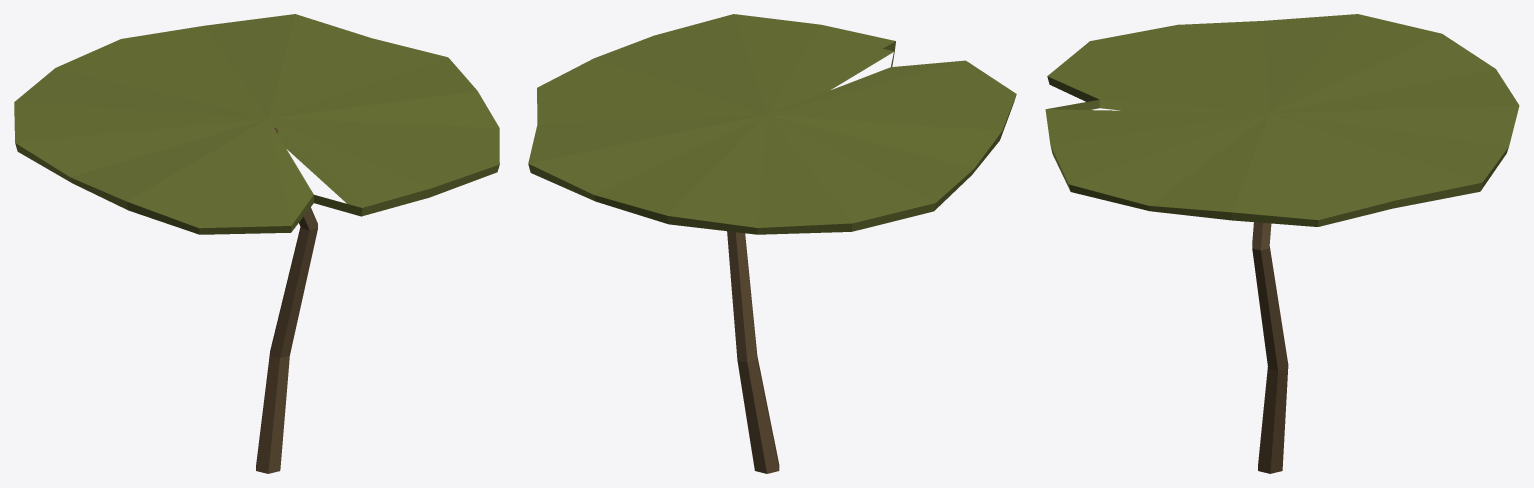
File: plant_004a_lily_pad.glb
3 renders of one model, left to right at view 1: azimuth 30°, elevation 25°; view 2: azimuth 150°, elevation 25°; view 3: azimuth 270°, elevation 25°, orthographic.
Parts seen in each view (by area): view 1: plant_004a_lily_pad__pad, plant_004a_lily_pad__stem; view 2: plant_004a_lily_pad__pad, plant_004a_lily_pad__stem; view 3: plant_004a_lily_pad__pad, plant_004a_lily_pad__stem.
Part boxes in pixels (x1,y1,x2,y2): plant_004a_lily_pad__pad: (14, 14, 499, 234); plant_004a_lily_pad__stem: (256, 127, 317, 473); plant_004a_lily_pad__pad: (528, 14, 1016, 234); plant_004a_lily_pad__stem: (727, 231, 779, 473); plant_004a_lily_pad__pad: (1045, 14, 1519, 226); plant_004a_lily_pad__stem: (1252, 222, 1288, 473).
Size of the model in its own units: 0.9233 by 0.745 by 0.9026.
